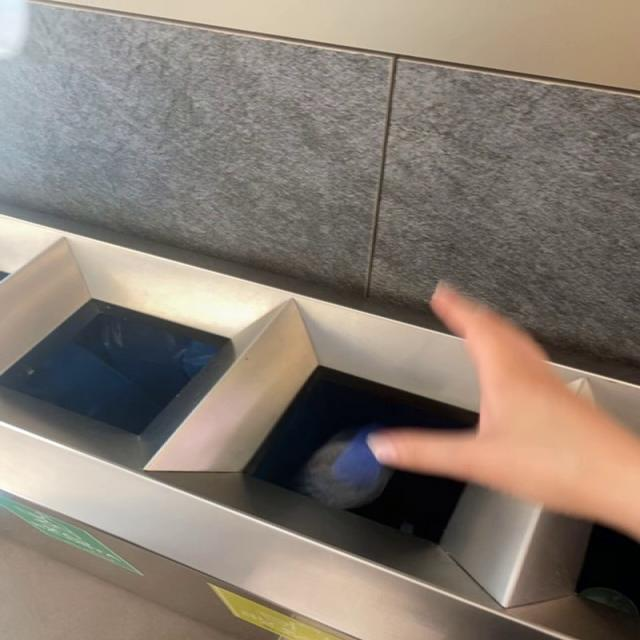plastic: (300, 426, 395, 510)
